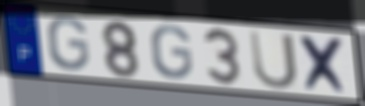3: (202, 26, 242, 87)
8: (98, 17, 141, 79)
G: (46, 15, 92, 73), (149, 24, 195, 81)
U: (246, 28, 300, 92)
X: (297, 33, 353, 97)
